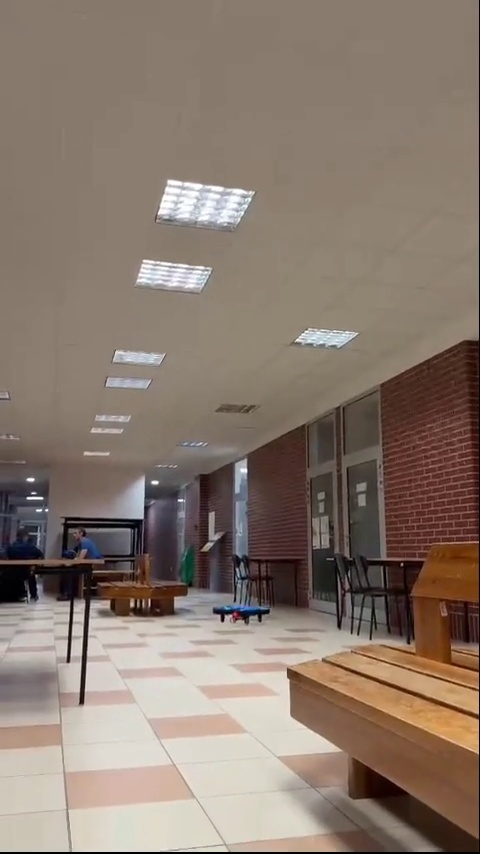drone: (212, 602, 271, 632)
no vest: (62, 518, 101, 590), (9, 523, 44, 595)
